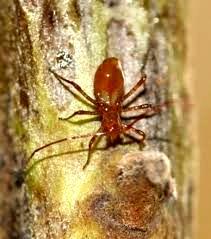Helopeltis-insect: (76, 57, 150, 145)
